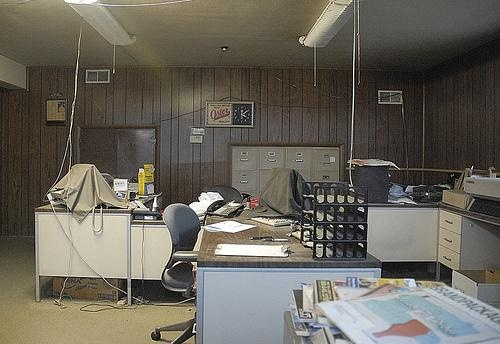chair: (150, 203, 198, 344)
